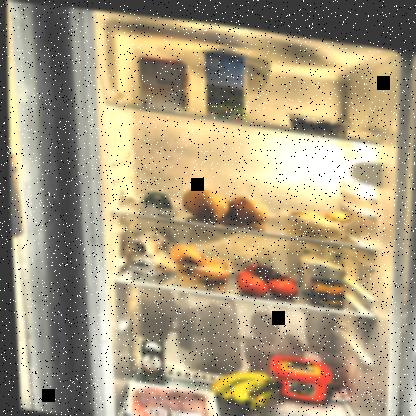banana: (204, 361, 281, 411)
blueberries: (284, 105, 351, 130)
butter: (263, 346, 331, 397)
corn: (307, 269, 343, 302)
heavy_cream: (135, 337, 162, 382)
milk: (199, 38, 250, 125)
onion: (167, 238, 233, 288)
potato: (279, 196, 353, 233)
sweet_potato: (178, 179, 268, 226)
tomato: (230, 253, 299, 298)
